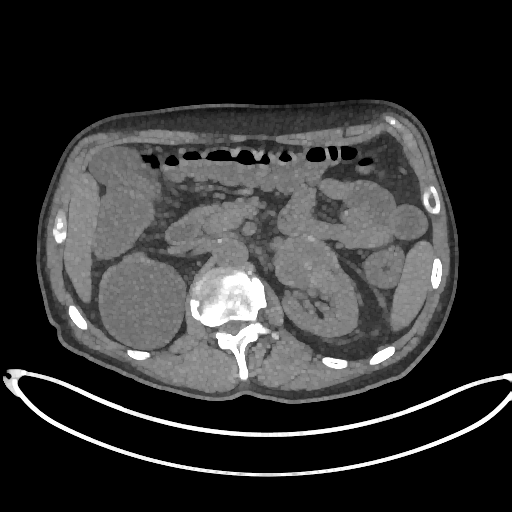Lesion: (271, 232, 341, 294)
